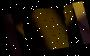scratch: (10, 2, 84, 55)
